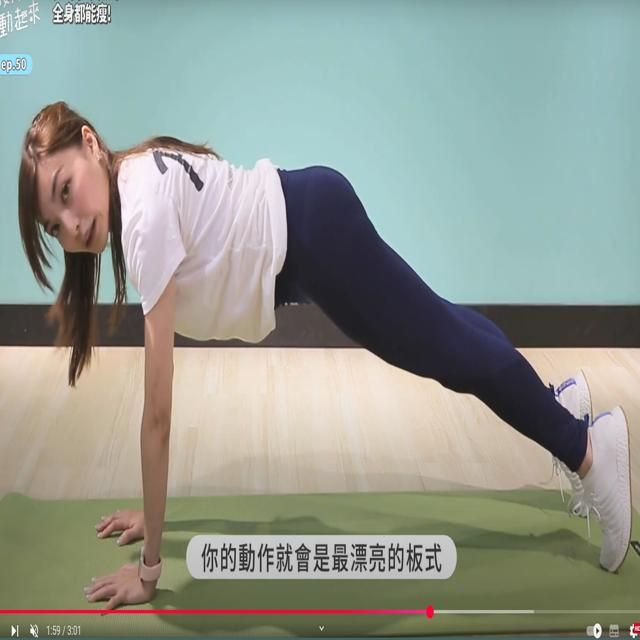Plank_Pose: (13, 106, 640, 597)
